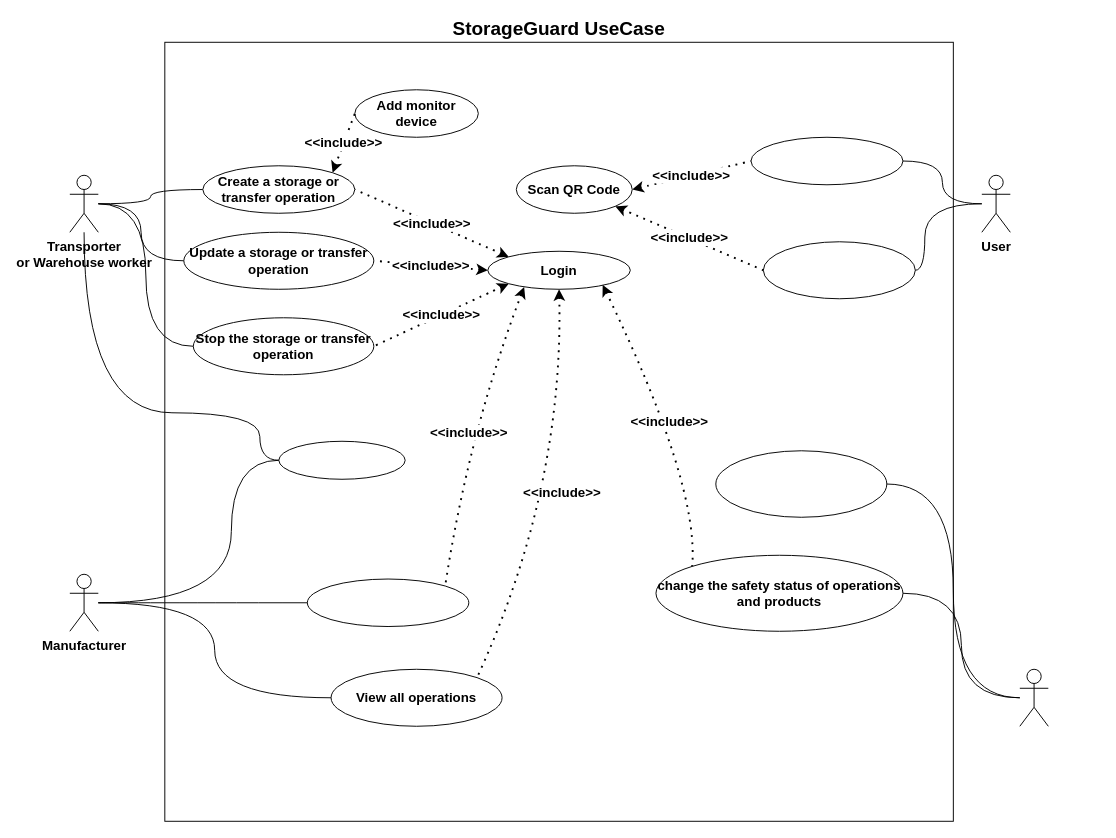
The diagram is 1116 pixels wide and 838 high, and some of its shapes have lost their labels. The shapes that lost their labels are listed below. From the top down, each one's centre as x and y in pixels, then its label:
At point (826, 160): "Check Product Safety".
At point (838, 270): "Display Product Information".
At point (341, 459): "Sign Up".
At point (801, 483): "show not safe operations".
At point (387, 602): "Generate QR code for products".
At point (1033, 697): "Regulatory Authority".
